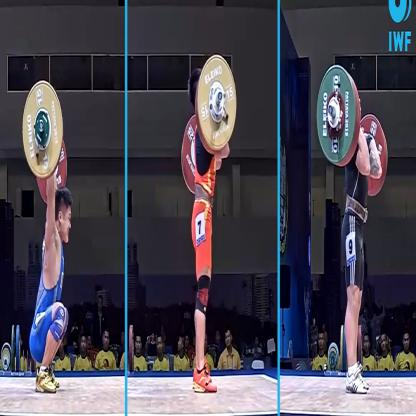Barbell: (314, 54, 366, 176), (190, 47, 240, 156), (20, 70, 66, 183)
